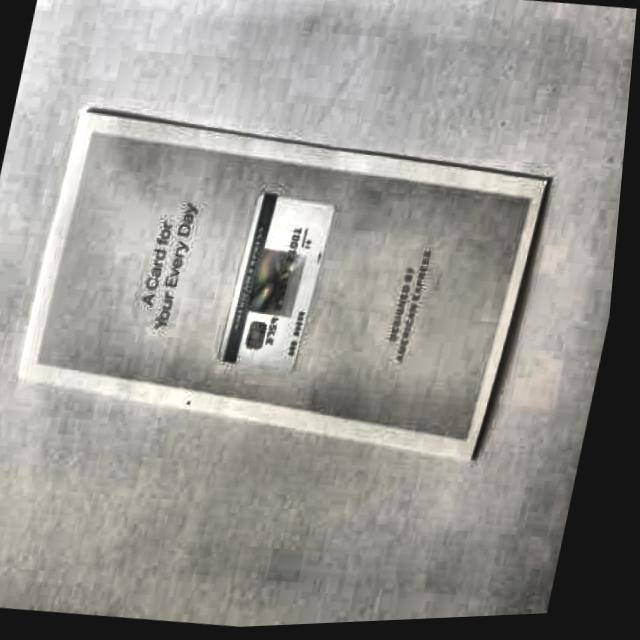Paper: (11, 89, 562, 484)
